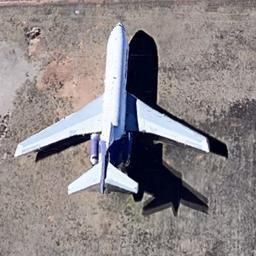Airplane: (13, 21, 228, 217)
